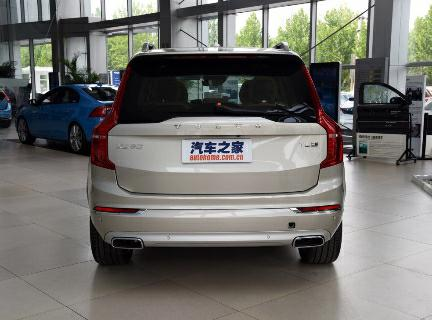沃尔沃-XC90: (82, 43, 352, 271)
